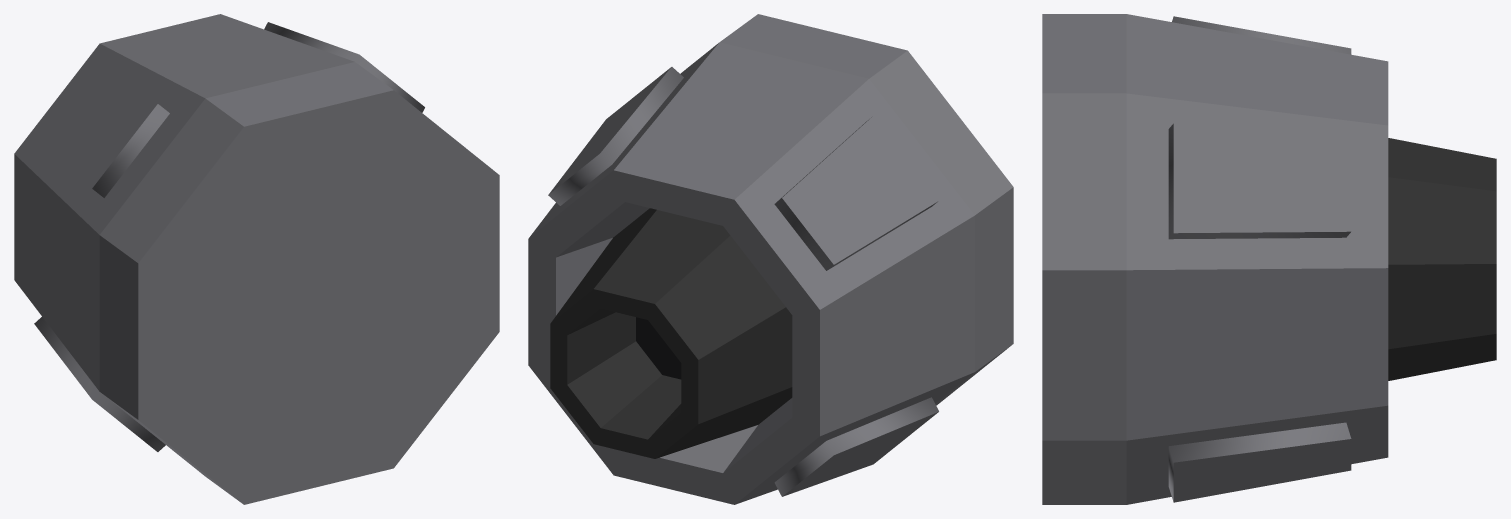
Rendered from model_engine_03.gltf.
The picture shows the model from 3 angles, left to right: view 1: azimuth 30°, elevation 25°; view 2: azimuth 150°, elevation 25°; view 3: azimuth 270°, elevation 25°; orthographic projection. The views are drawn at different scales.
Parts seen in each view (by area): view 1: model_engine_03; view 2: model_engine_03; view 3: model_engine_03.
Boxes of the visible parts, x1=… form: model_engine_03: x1=14, y1=14, x2=499, y2=504; model_engine_03: x1=528, y1=14, x2=1013, y2=504; model_engine_03: x1=1042, y1=14, x2=1496, y2=504.
Size of the model in its own units: 1 by 1 by 1.
Materials: 1 (1 with a texture image).
